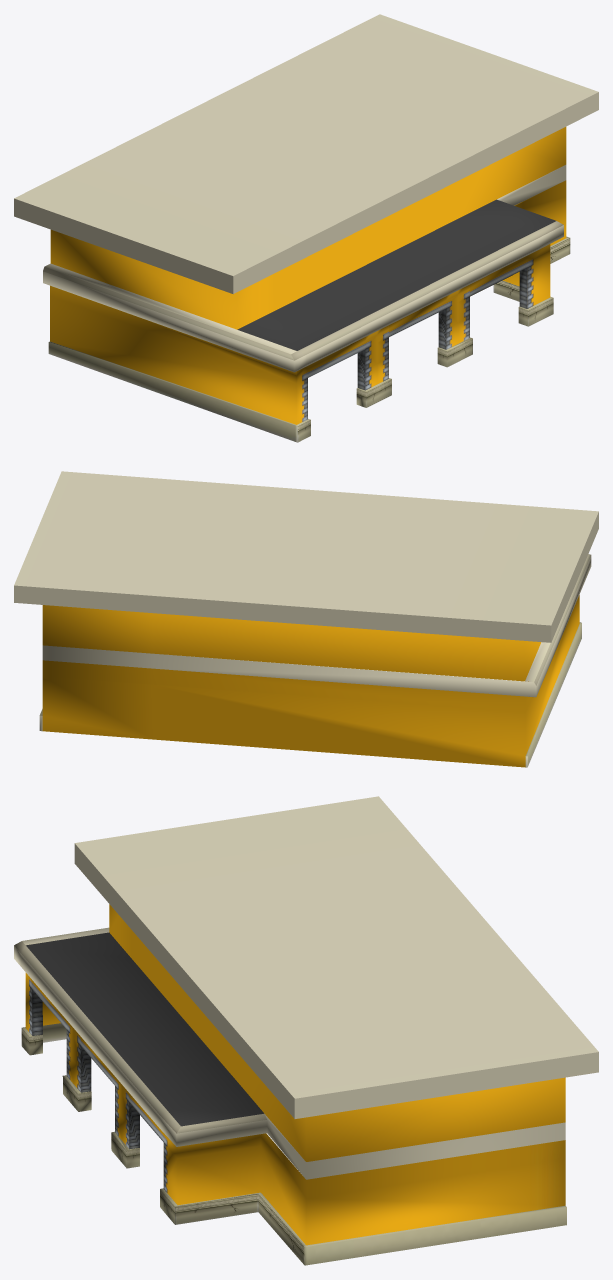
Rendered from garage.glb.
3 views of the same model, one above another, from view 1: azimuth 30°, elevation 25°; view 2: azimuth 150°, elevation 25°; view 3: azimuth 270°, elevation 25° (orthographic). The views are drawn at different scales.
Parts seen in each view (by area): view 1: Cube; view 2: Cube; view 3: Cube.
Boxes of the visible parts, x1,y1,x2,y2 form: Cube: [14, 14, 598, 442]; Cube: [14, 471, 598, 767]; Cube: [14, 796, 598, 1265].
Bounding box in the file's own units: 15.88 × 4.42 × 12.98.
1 material, 1 textured.
